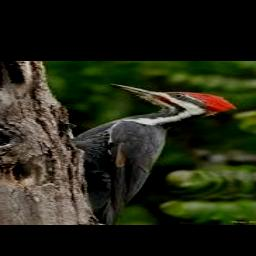Woodpecker: (70, 83, 236, 225)
